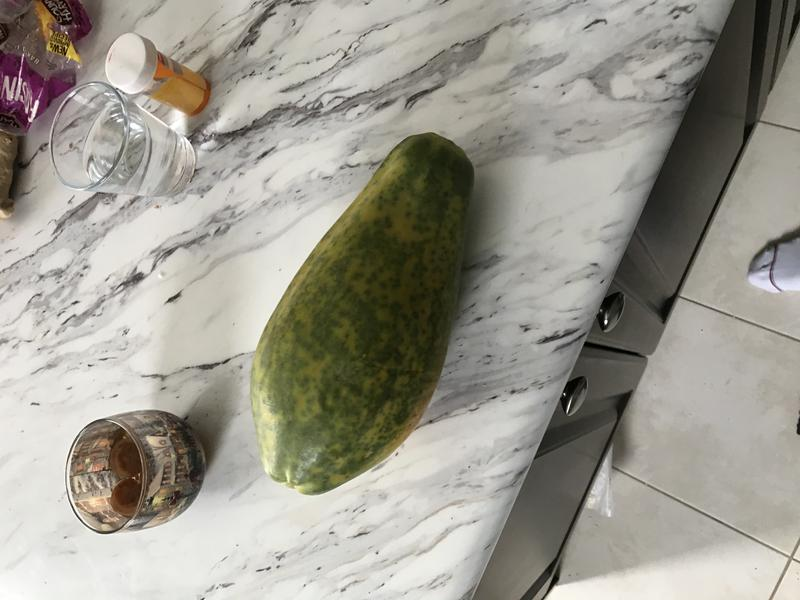papaya: (237, 122, 483, 504)
